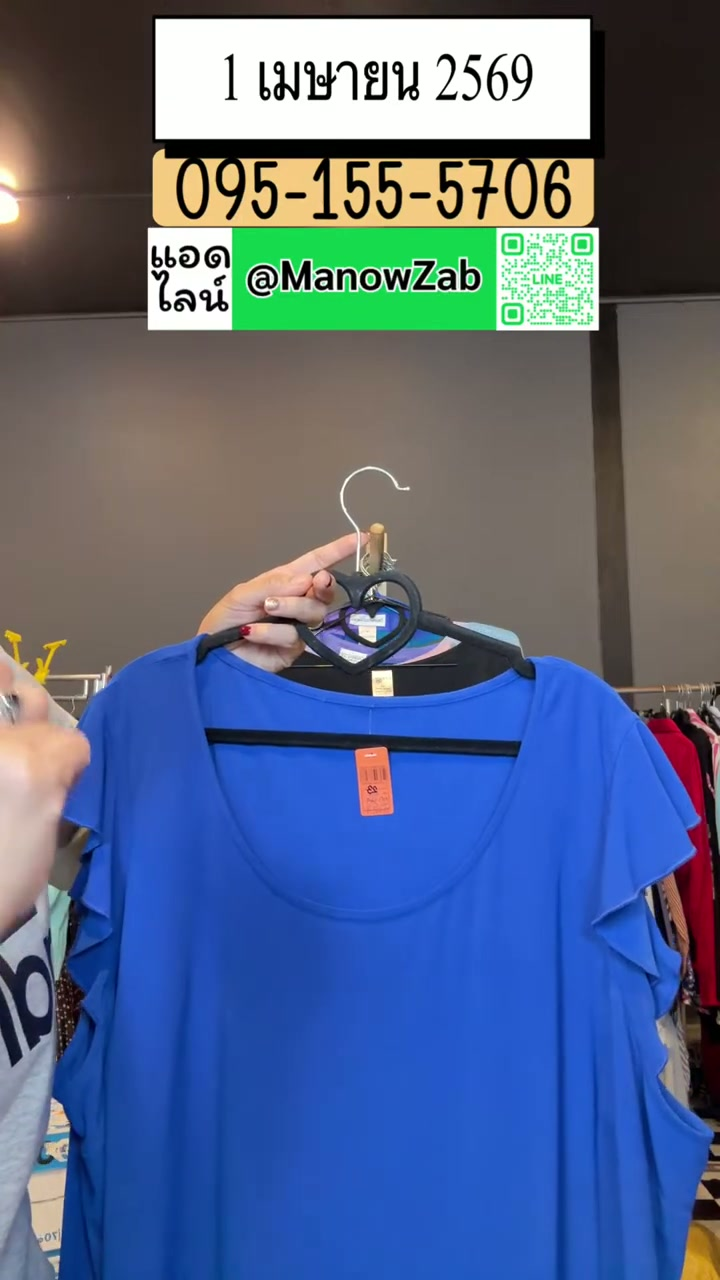display_shirt: (55, 639, 709, 1279)
